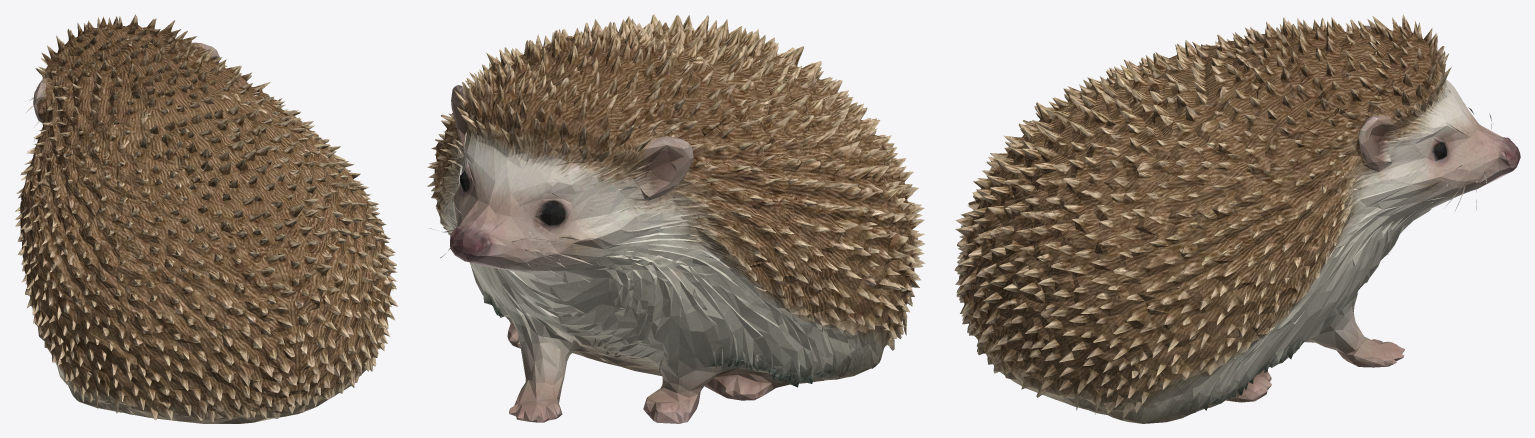
File: otto.glb
3 views of the same model, side by side, from view 1: azimuth 30°, elevation 25°; view 2: azimuth 150°, elevation 25°; view 3: azimuth 270°, elevation 25° (orthographic). The views are drawn at different scales.
Visible parts, largest first — view 1: tripo_node_eb5b674b-0025-4838-9586-ebd827abc40f; view 2: tripo_node_eb5b674b-0025-4838-9586-ebd827abc40f; view 3: tripo_node_eb5b674b-0025-4838-9586-ebd827abc40f.
Boxes of the visible parts, x1,y1,x2,y2 form: tripo_node_eb5b674b-0025-4838-9586-ebd827abc40f: [14, 14, 398, 423]; tripo_node_eb5b674b-0025-4838-9586-ebd827abc40f: [427, 14, 925, 423]; tripo_node_eb5b674b-0025-4838-9586-ebd827abc40f: [954, 14, 1520, 423].
Bounding box in the file's own units: 0.7976 × 0.6205 × 0.994.
1 material, 1 textured.
